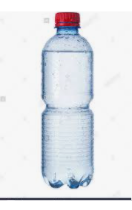Bottle: (42, 12, 95, 190)
